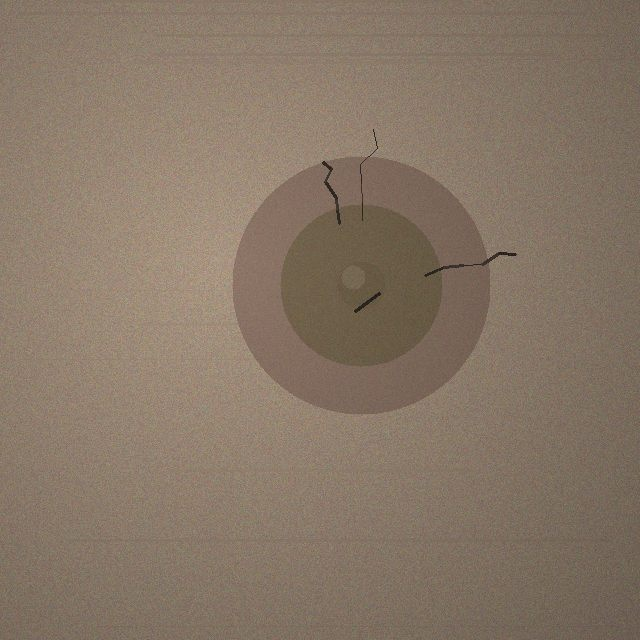crack: (232, 156, 490, 414)
